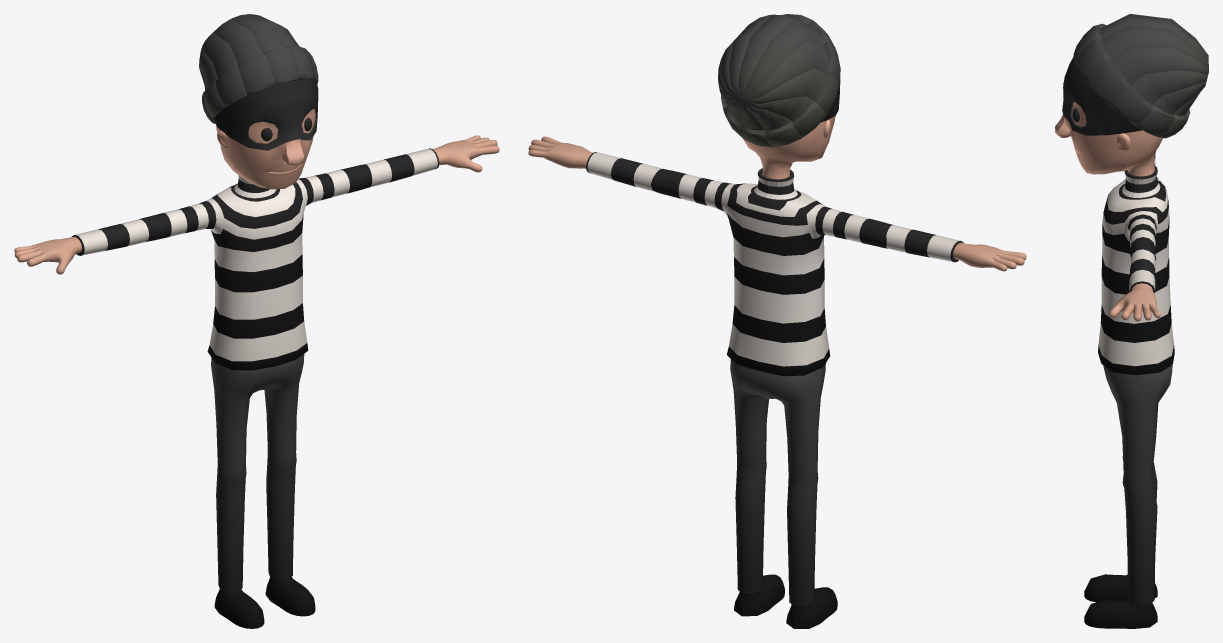
Rendered from trom.fbx.
3 renders of one model, left to right at view 1: azimuth 30°, elevation 25°; view 2: azimuth 150°, elevation 25°; view 3: azimuth 270°, elevation 25°, orthographic. The views are drawn at different scales.
Visible parts, largest first — view 1: Man.005; view 2: Man.005; view 3: Man.005.
Boxes of the visible parts, x1,y1,x2,y2 form: Man.005: [14, 14, 499, 628]; Man.005: [528, 14, 1026, 628]; Man.005: [1055, 14, 1208, 628].
Size of the model in its own units: 399 by 462 by 109.
